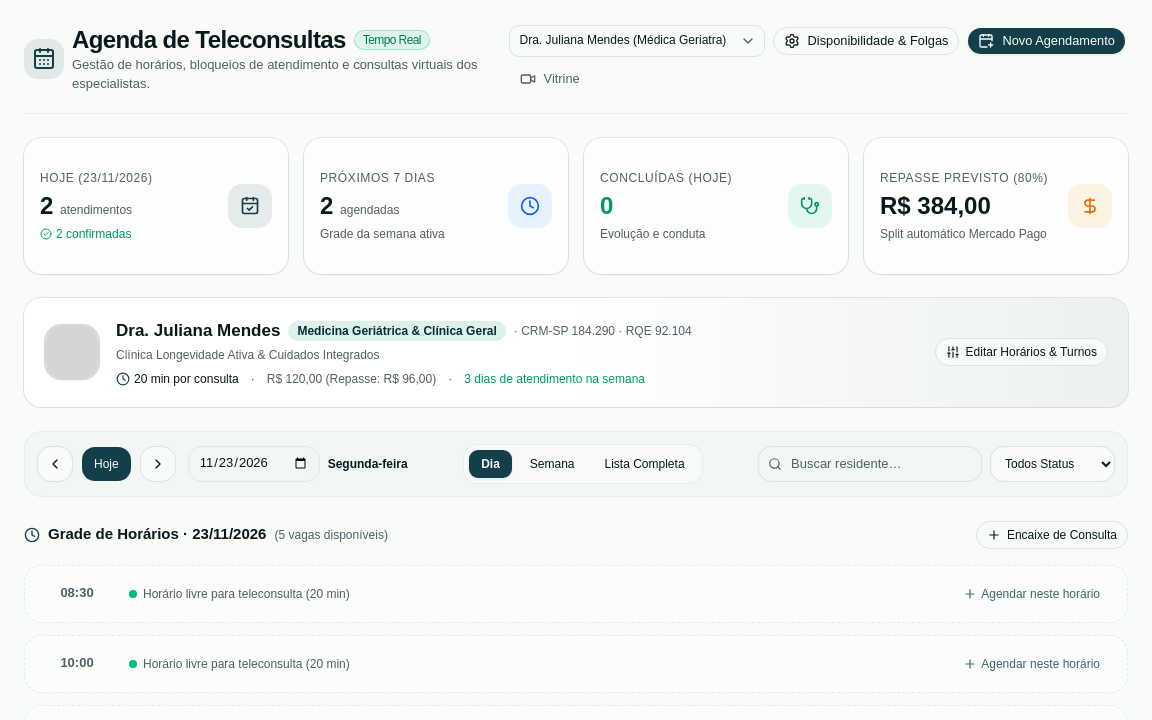
Test: AgendaTeleconsulta Page › permite abrir o modal de configuração de disponibilidade e salvar alterações
The width and height of the screenshot is (1152, 720).
Later steps or results of the test are not shown.
Step 1. Click the button "Disponibilidade & Folgas" → {"x": 866, "y": 41}, box [773,27,960,55]
(page scrolled)
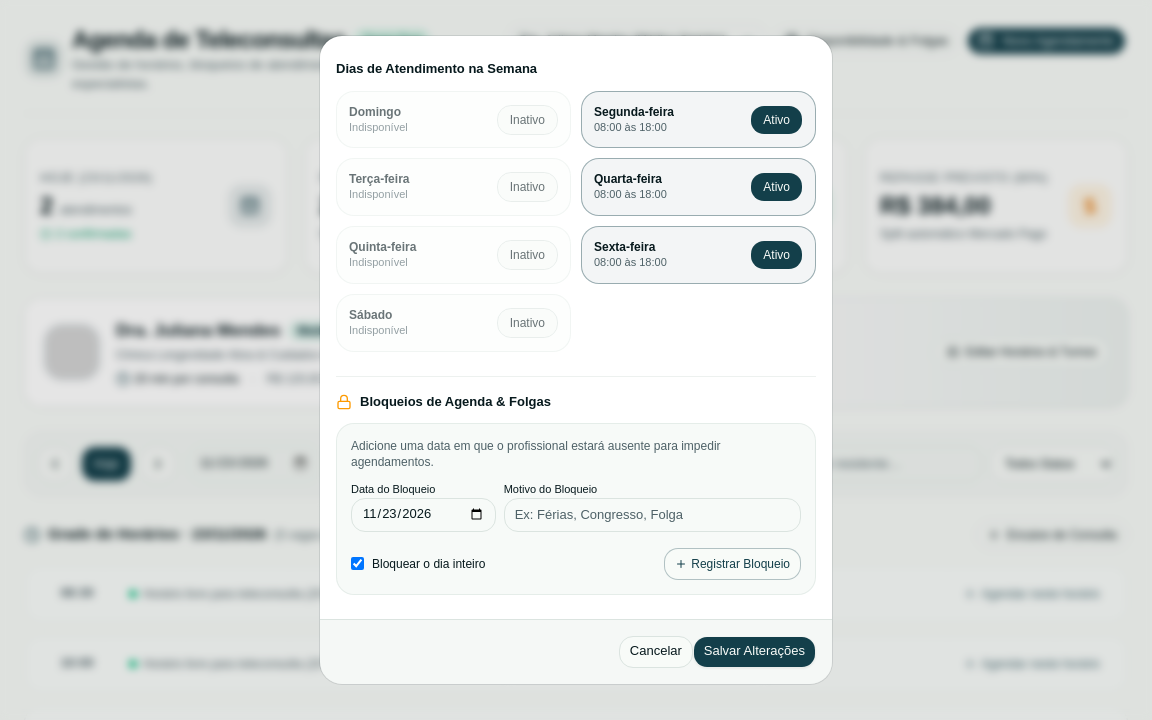
Result: the heading "Bloqueios de Agenda & Folgas" is shown at [336,394,551,410]
